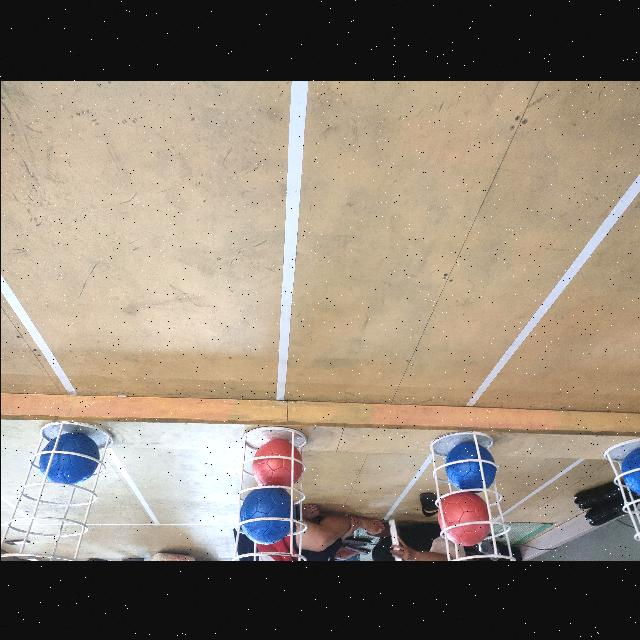B: (39, 431, 99, 487), (238, 486, 292, 546), (442, 440, 496, 490), (620, 447, 640, 499)
R: (436, 490, 490, 546), (252, 436, 300, 489)
